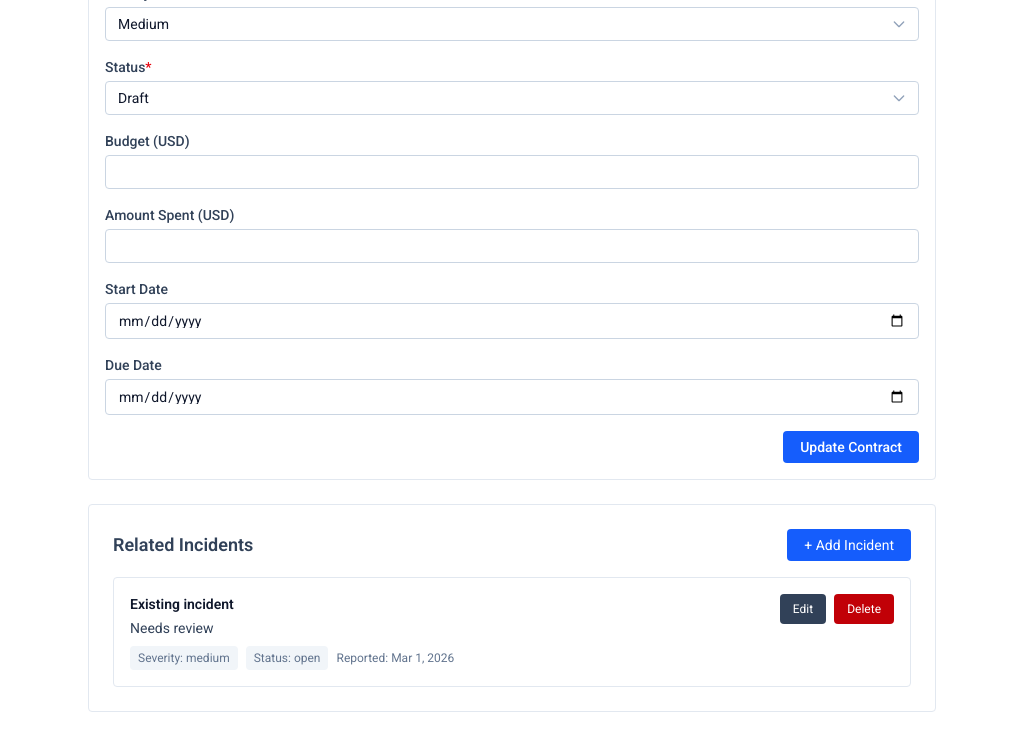
Test: EditContractPage › creates, updates and deletes related incidents from the edit page
The image size is (1024, 736).
(page scrolled)
Click the button "+ Add Incident": (849, 545) [787, 529, 911, 561]
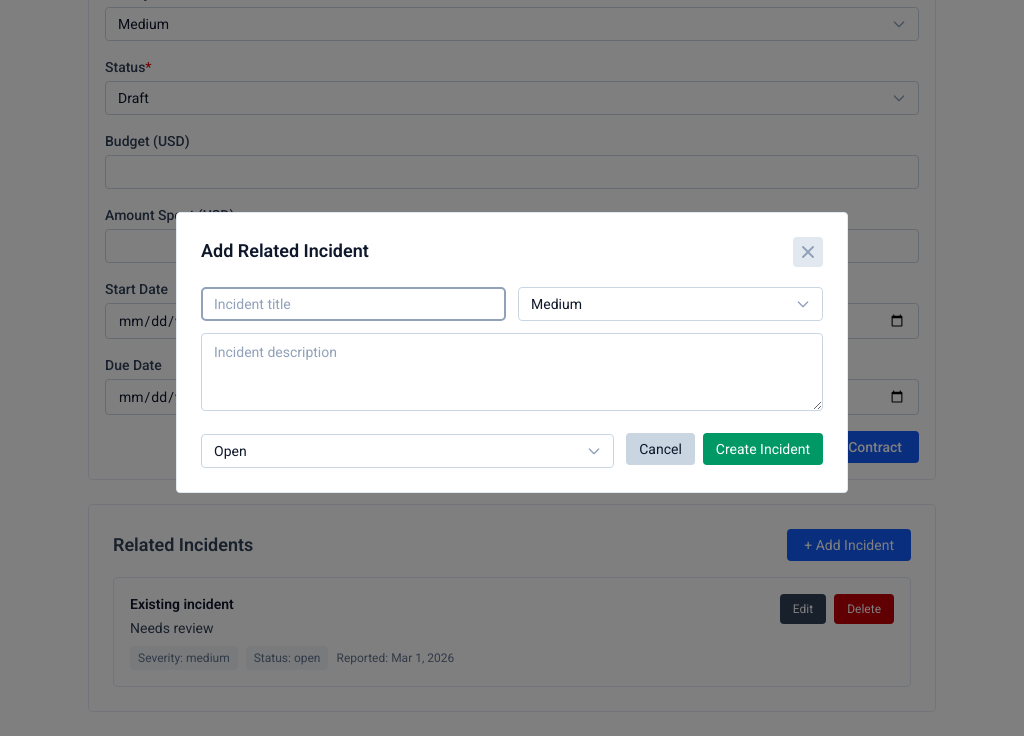
In the field with placeholder "Incident title": (354, 304) [201, 286, 506, 320], type "Created incident"
In the text box with placeholder "Incident description": (512, 372) [201, 332, 823, 410], type "Created from test"
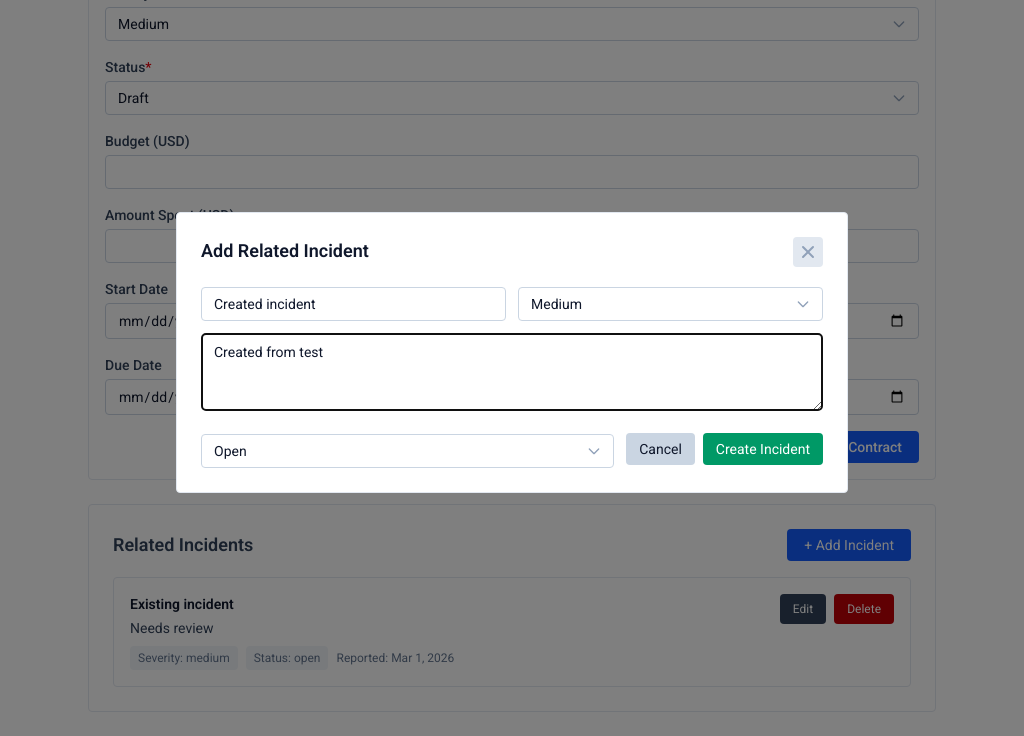
Click the button "Create Incident": (763, 448) [703, 432, 823, 464]
(page scrolled)
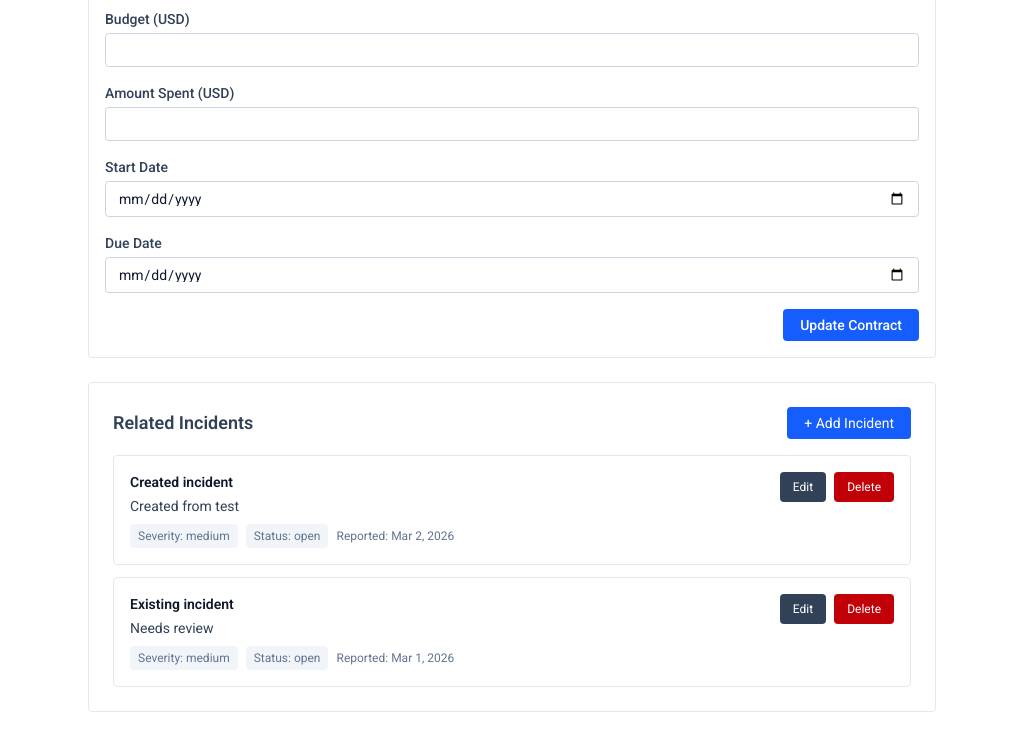
Now the text "Created incident" is shown, box [130, 474, 233, 490]
Click the button "Edit" in the row of "Existing incident": (803, 609) [780, 594, 826, 624]
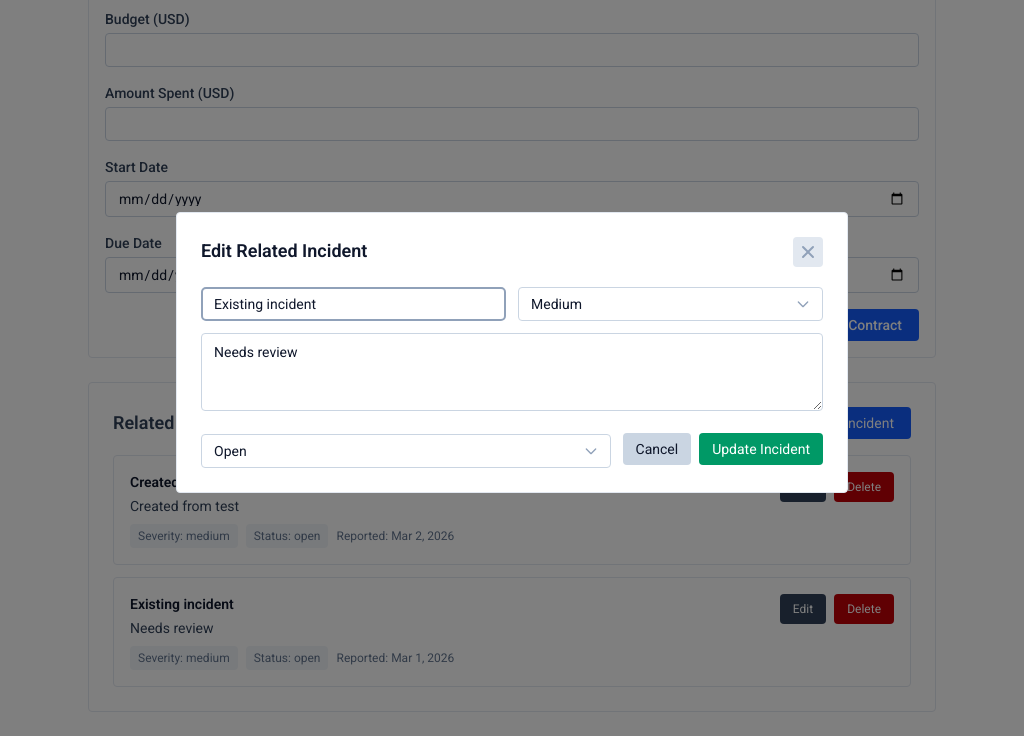
Replace the text in the 1st field showing "Existing incident" with "Existing incident updated": (354, 304) [201, 286, 506, 320]
Click the button "Update Incident": (761, 448) [699, 432, 823, 464]
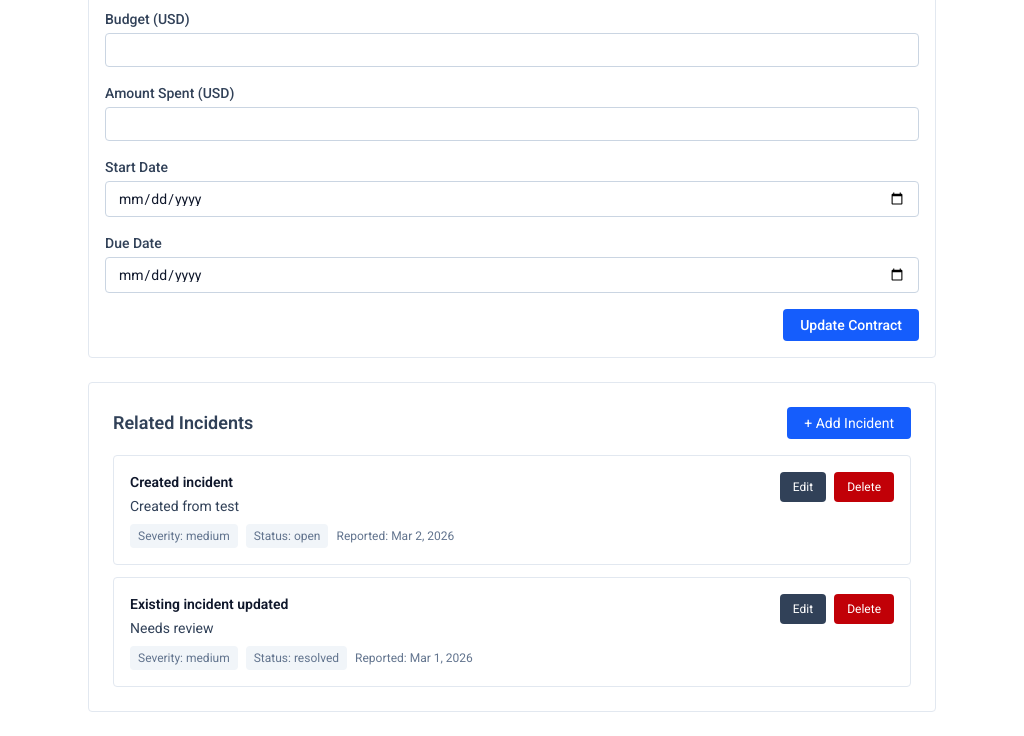
Now the text "Existing incident updated" is shown, box [130, 596, 288, 612]
Click the button "Delete" in the row of "Existing incident updated": (864, 609) [834, 594, 894, 624]
(page scrolled)
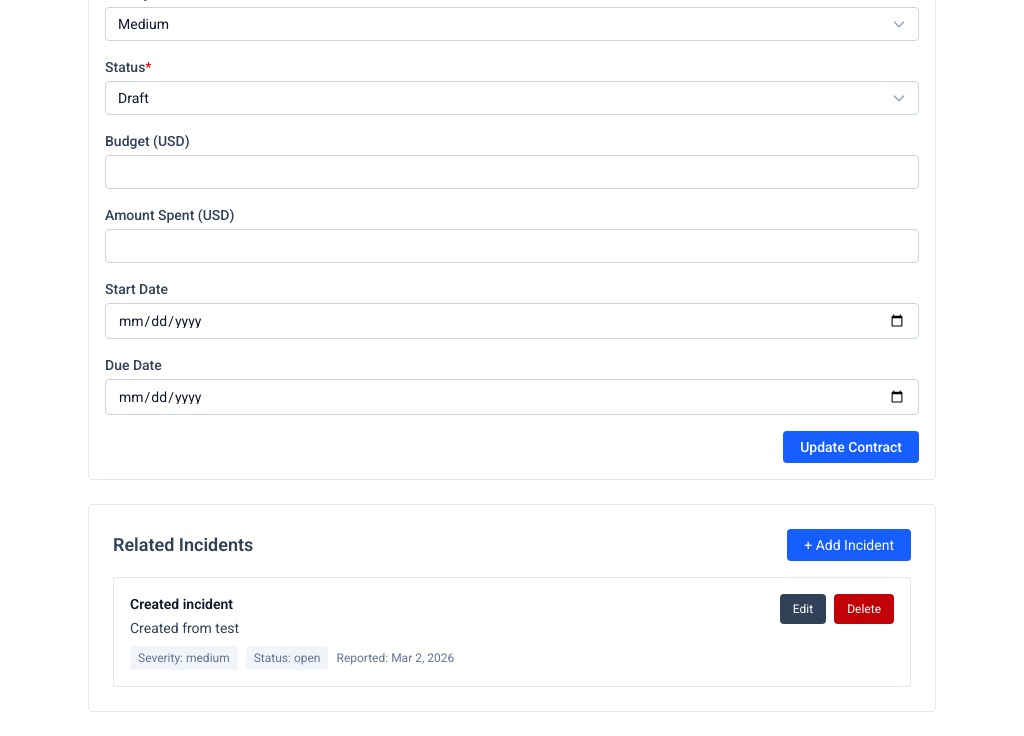
Now the text "Existing incident updated" is gone
